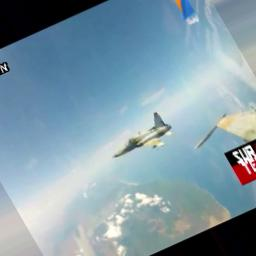Airplane: (114, 110, 174, 159)
